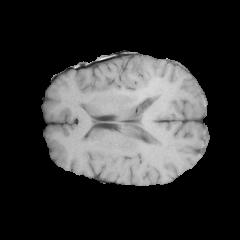glioma: (77, 56, 178, 137)
